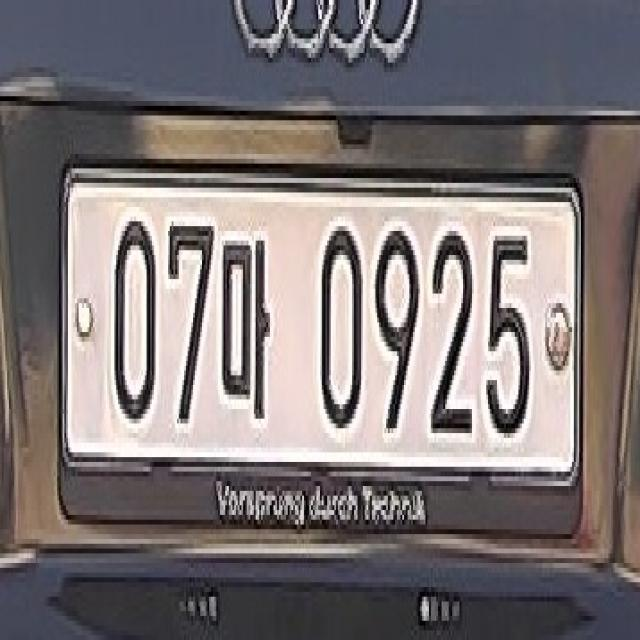0: (106, 210, 161, 429), (315, 212, 366, 443)
2: (427, 216, 478, 454)
5: (482, 227, 534, 455)
7: (165, 204, 217, 436)
9: (374, 221, 421, 452)
license_plate: (49, 148, 588, 555)
ma: (221, 219, 278, 441)
